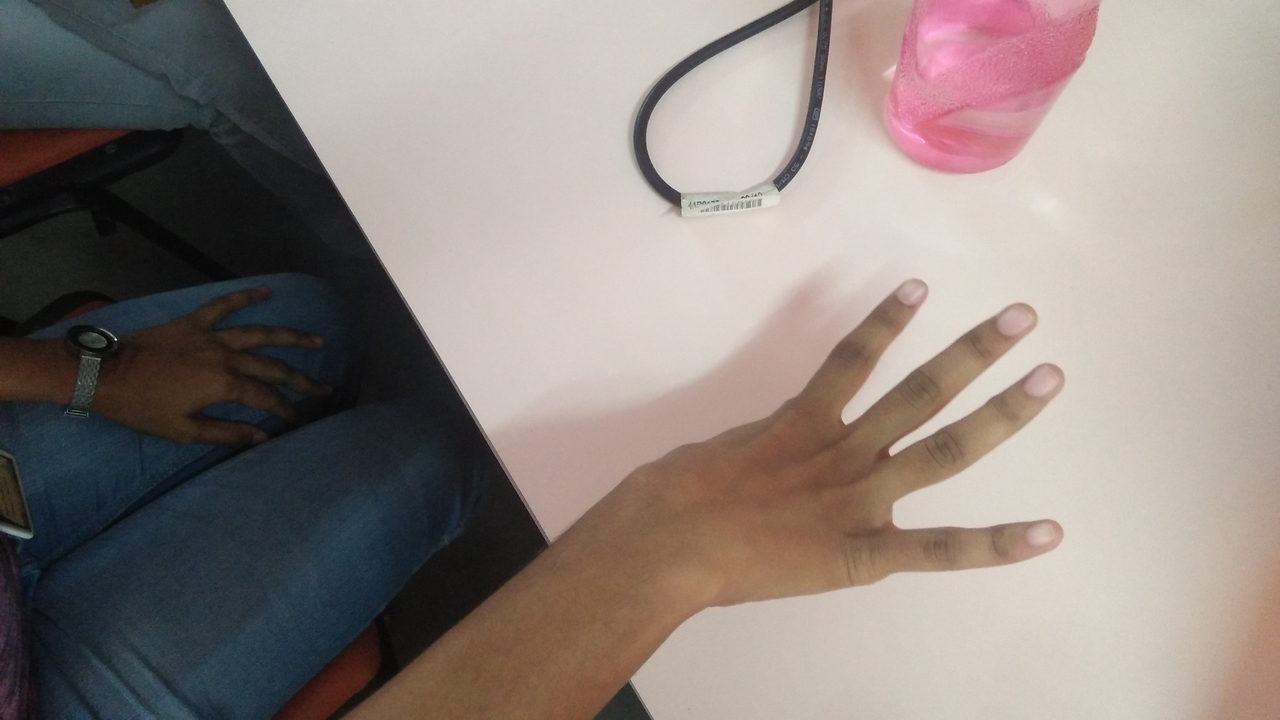fingertip: (974, 290, 1064, 348), (868, 266, 952, 324), (1014, 354, 1086, 410), (1011, 511, 1066, 556)
